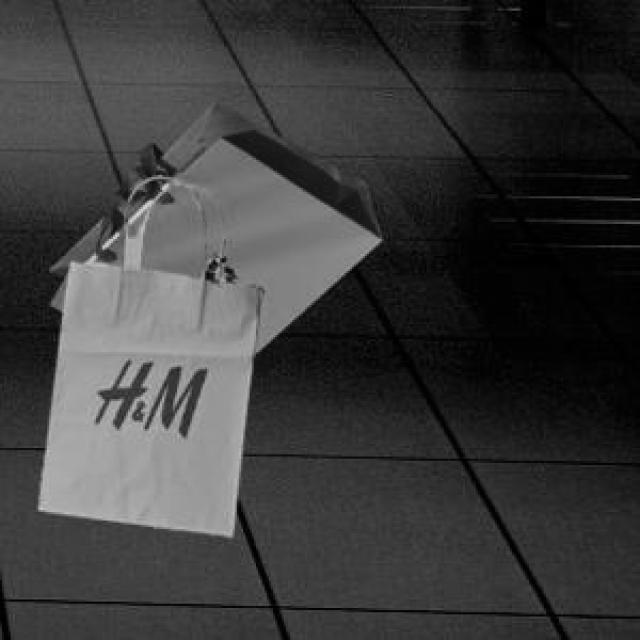paper: (45, 100, 378, 350), (34, 175, 260, 533)
